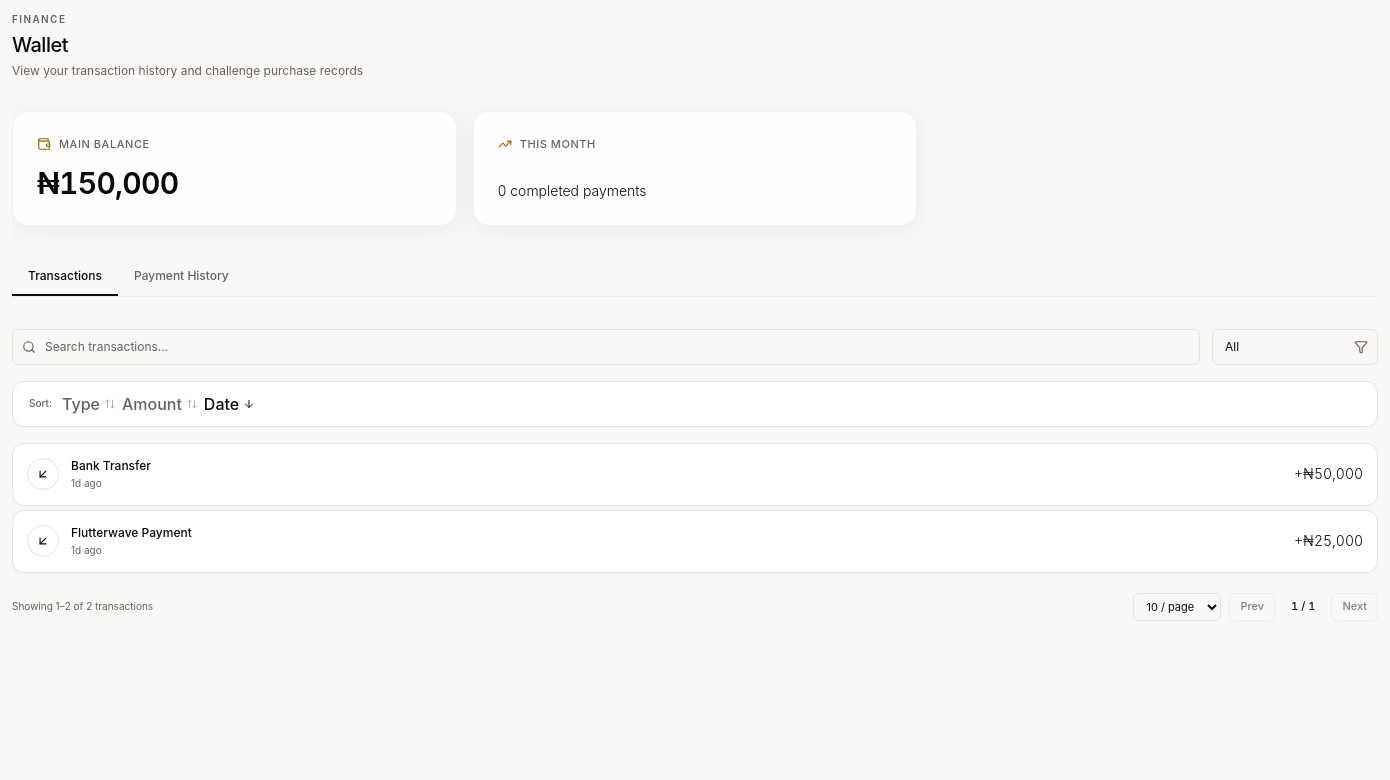
Wallet Page › Transaction Search › search is case-insensitive
Type "BANK" into the field with placeholder "Search transactions..." at [606, 346], box [12,328,1200,364]
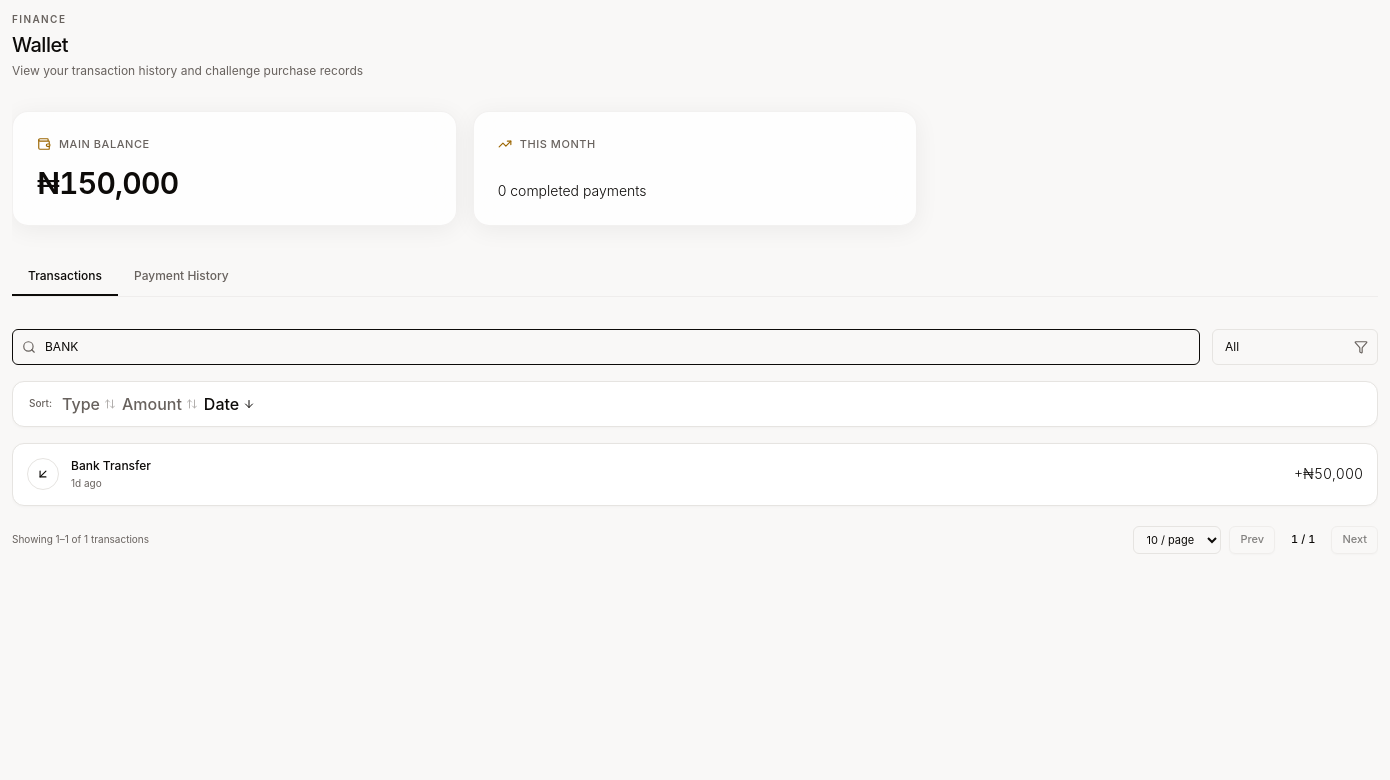
Expected: the text "Bank Transfer" is shown, [71,458,151,474]
Now the text "Flutterwave Payment" is gone
